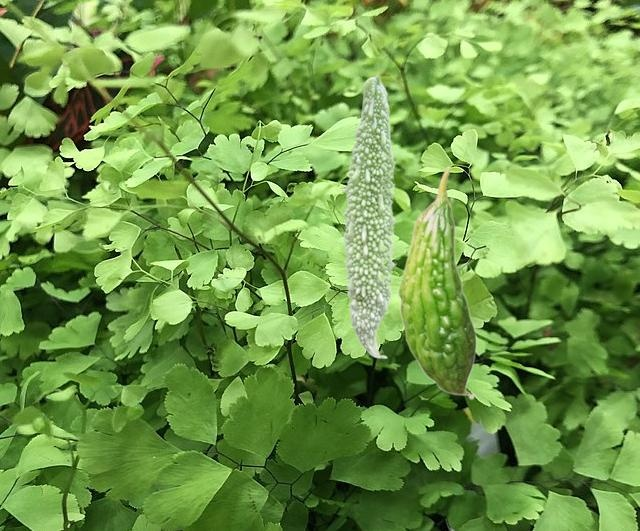ampalaya: (395, 165, 477, 400), (339, 70, 399, 360)
